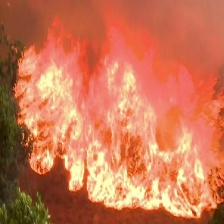fire: (18, 24, 217, 217)
